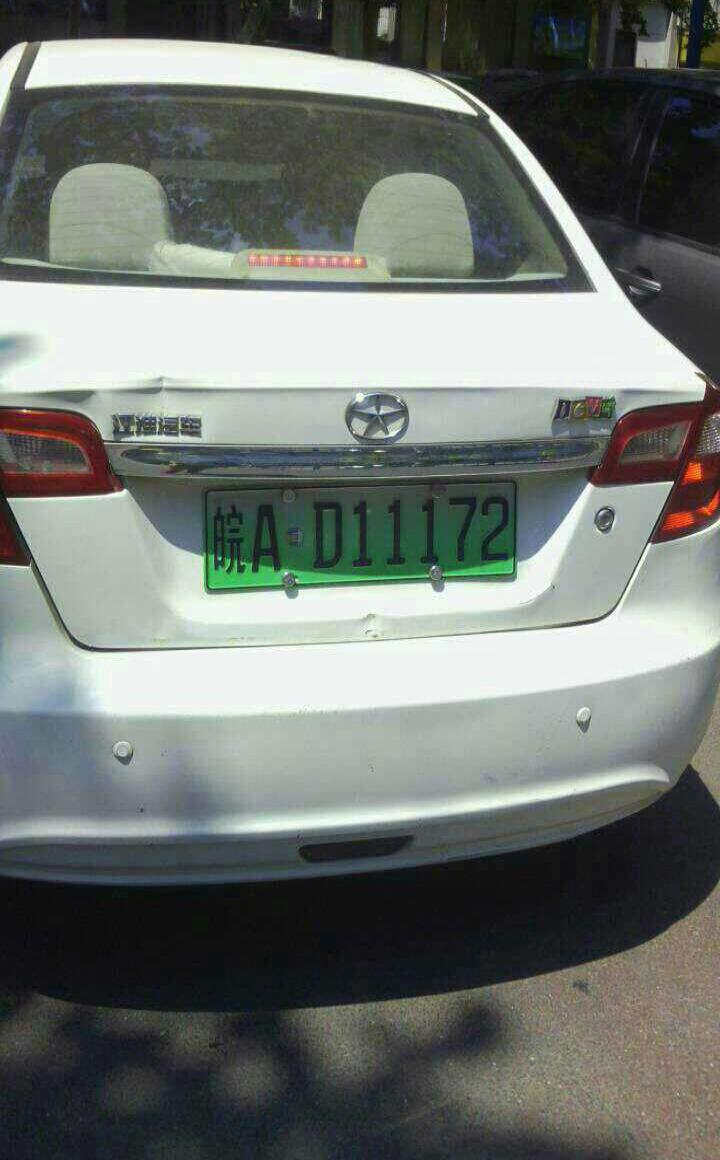car_id: (203, 485, 519, 584)
